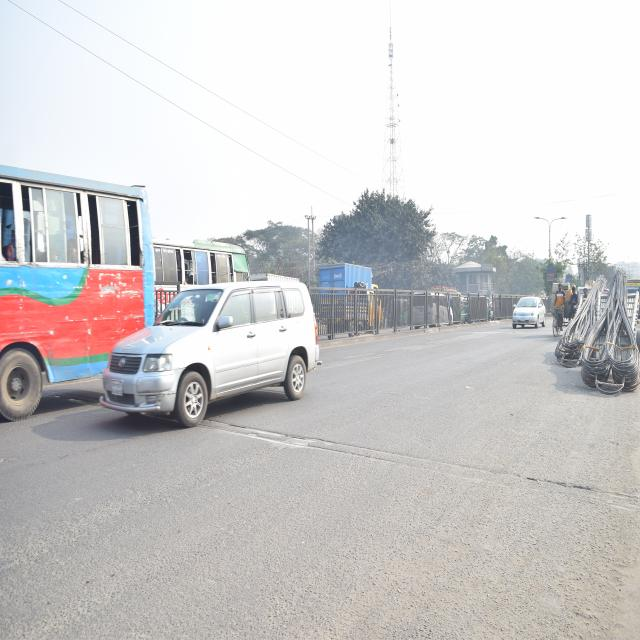bus: (0, 160, 157, 423)
car: (102, 268, 322, 442), (506, 288, 544, 332)
